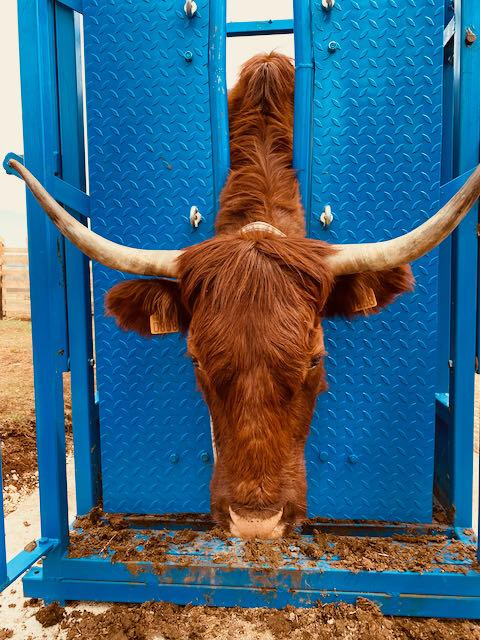muzzles: (209, 497, 303, 544)
